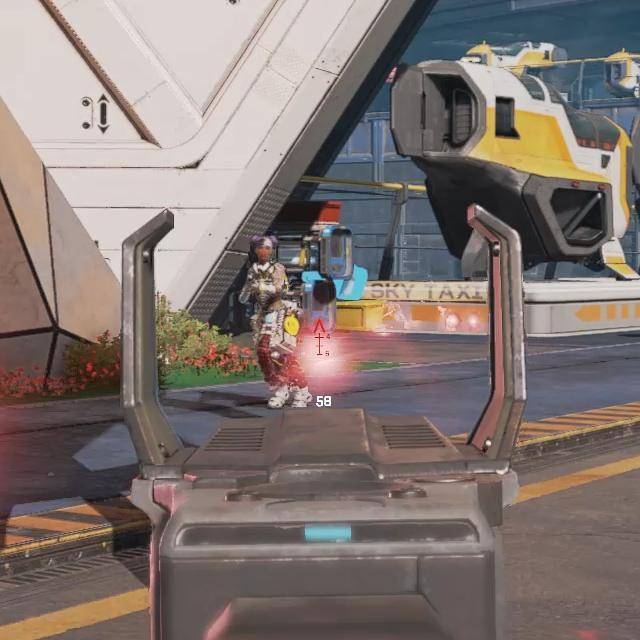avatar: (244, 236, 312, 407)
